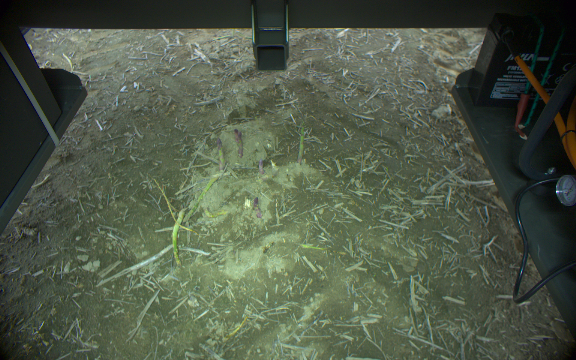aspa: (190, 174, 222, 211), (171, 205, 189, 267), (212, 134, 229, 177), (231, 128, 245, 161), (295, 124, 306, 166), (249, 194, 264, 223), (256, 157, 265, 177)
